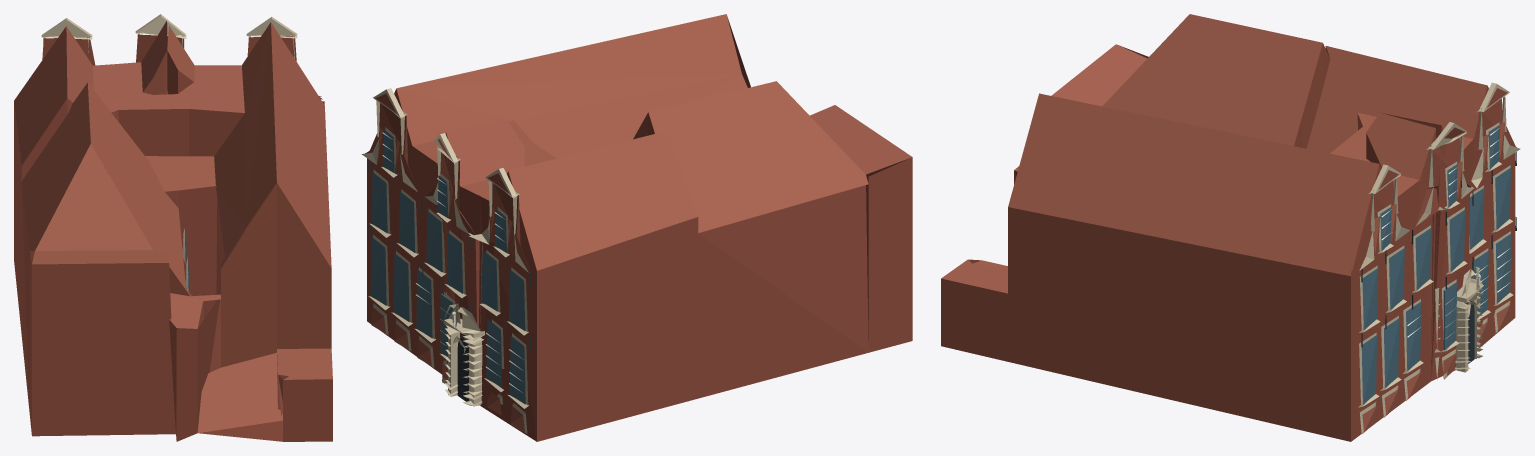
File: wine-guildhall.lod1.glb
The picture shows the model from 3 angles, left to right: view 1: azimuth 30°, elevation 25°; view 2: azimuth 150°, elevation 25°; view 3: azimuth 270°, elevation 25°; orthographic projection. The views are drawn at different scales.
Visible parts, largest first — view 1: wine-guildhall; view 2: wine-guildhall; view 3: wine-guildhall.
Boxes of the visible parts, x1,y1,x2,y2 form: wine-guildhall: [14, 14, 332, 441]; wine-guildhall: [361, 14, 912, 441]; wine-guildhall: [941, 14, 1520, 441].
Bounding box in the file's own units: 20.74 × 12.15 × 23.9.
